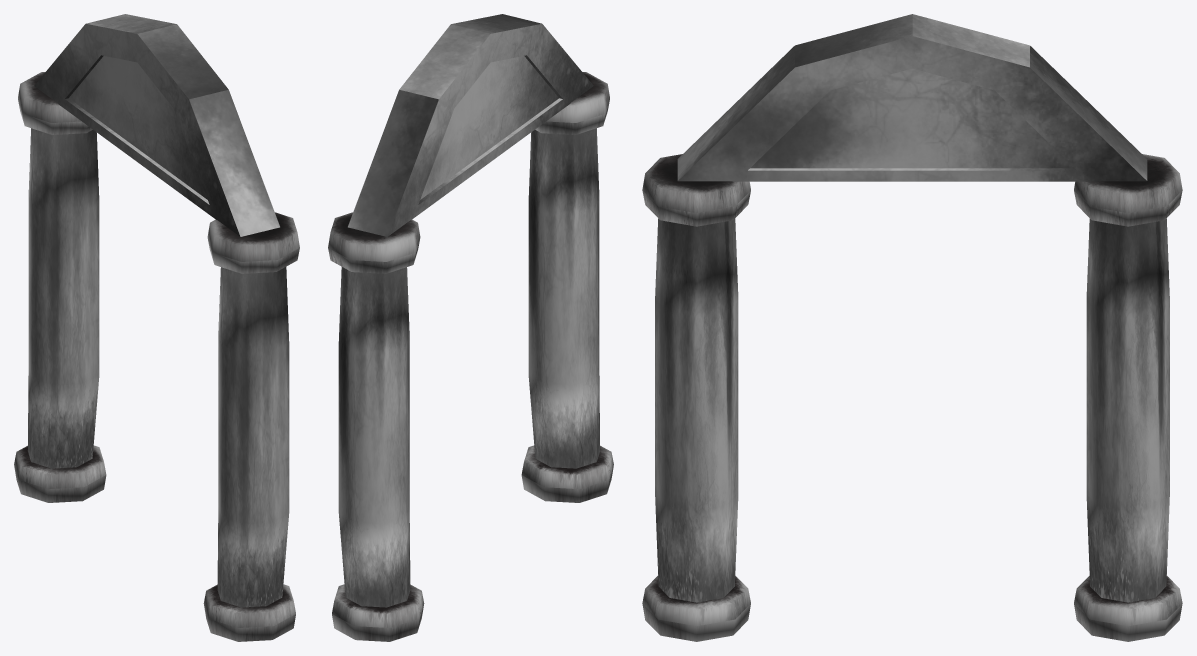
Rendered from MOD_L1_Doorway01.fbx.
3 views of the same model, side by side, from view 1: azimuth 30°, elevation 25°; view 2: azimuth 150°, elevation 25°; view 3: azimuth 270°, elevation 25° (orthographic). The views are drawn at different scales.
Parts seen in each view (by area): view 1: Room01_Main.003; view 2: Room01_Main.003; view 3: Room01_Main.003.
Part boxes in pixels (left/top/right/bottom): Room01_Main.003: left=14, top=14, right=299, bottom=641; Room01_Main.003: left=328, top=14, right=613, bottom=641; Room01_Main.003: left=642, top=14, right=1182, bottom=641.
Size of the model in its own units: 9.83 by 57.04 by 46.66.
